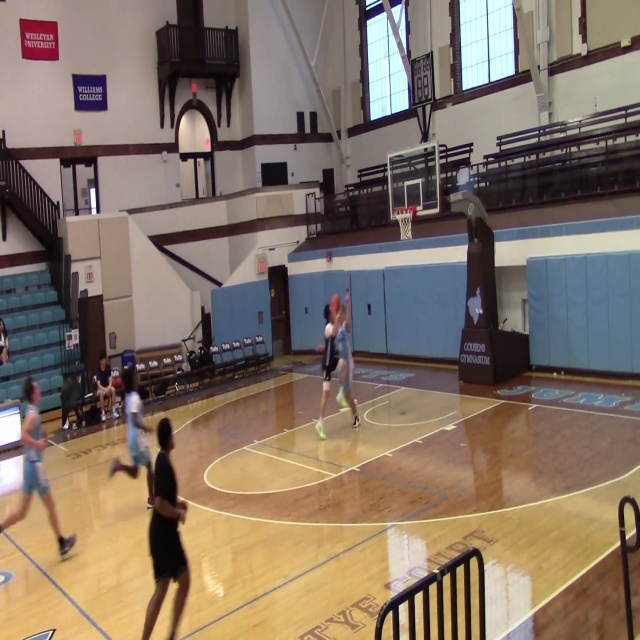Basketball: (330, 294, 340, 312), (324, 323, 334, 338), (112, 376, 123, 389)
